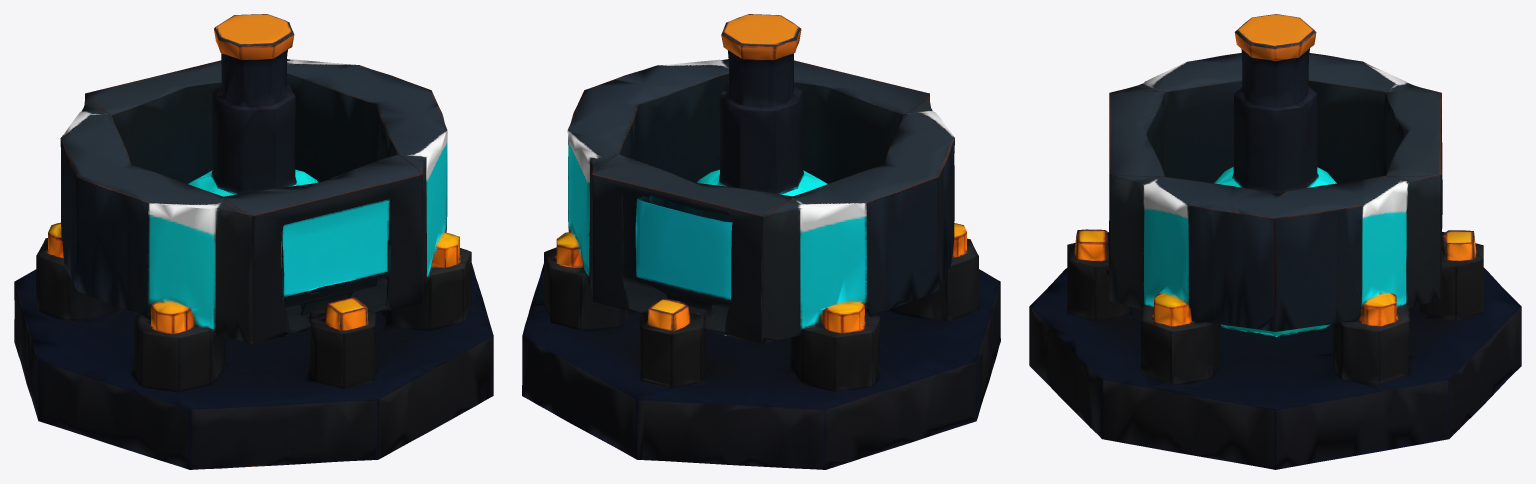
The model's file is annihilator.glb.
3 views of the same model, side by side, from view 1: azimuth 30°, elevation 25°; view 2: azimuth 150°, elevation 25°; view 3: azimuth 270°, elevation 25° (orthographic).
Parts seen in each view (by area): view 1: world; view 2: world; view 3: world.
Boxes of the visible parts, x1=… form: world: x1=14, y1=14, x2=493, y2=469; world: x1=522, y1=14, x2=1000, y2=469; world: x1=1029, y1=14, x2=1521, y2=469.
Bounding box in the file's own units: 1 × 0.7529 × 1.
1 material, 1 textured.
